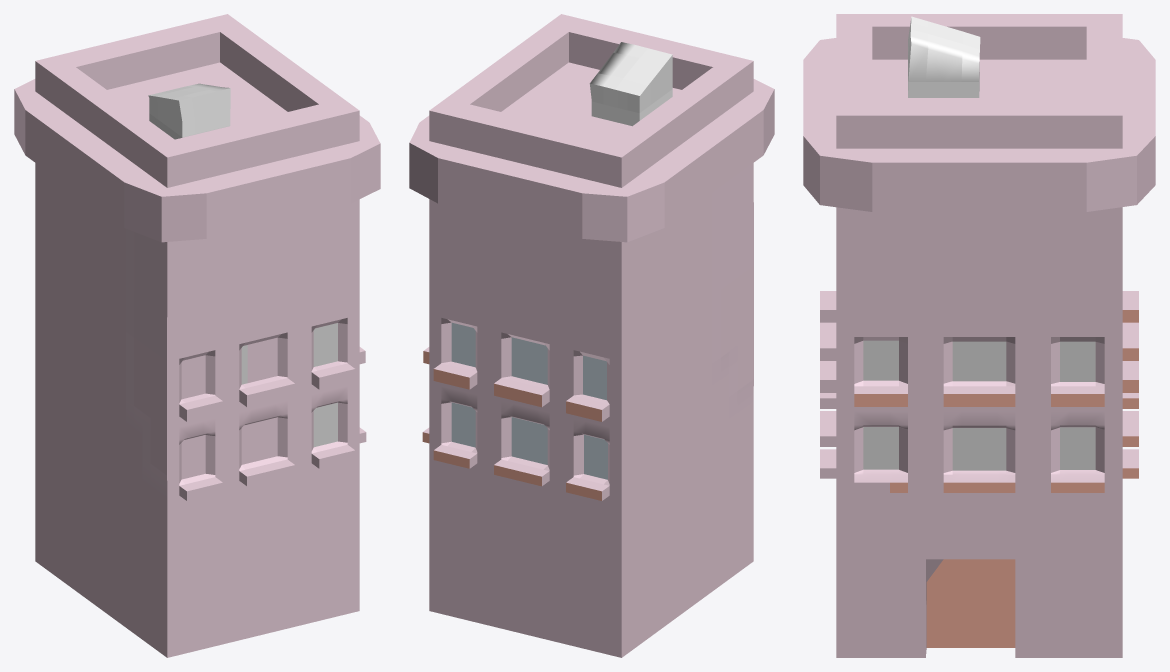
The model's file is BUILDINGONE.fbx.
3 views of the same model, side by side, from view 1: azimuth 30°, elevation 25°; view 2: azimuth 150°, elevation 25°; view 3: azimuth 270°, elevation 25° (orthographic). The views are drawn at different scales.
Parts seen in each view (by area): view 1: ab:building_two; view 2: ab:building_two; view 3: ab:building_two.
Part boxes in pixels (bbox=[...]): ab:building_two: bbox=[14, 14, 380, 657]; ab:building_two: bbox=[409, 14, 774, 657]; ab:building_two: bbox=[803, 14, 1155, 657].
Size of the model in its own units: 2.18 by 4.43 by 2.51.
